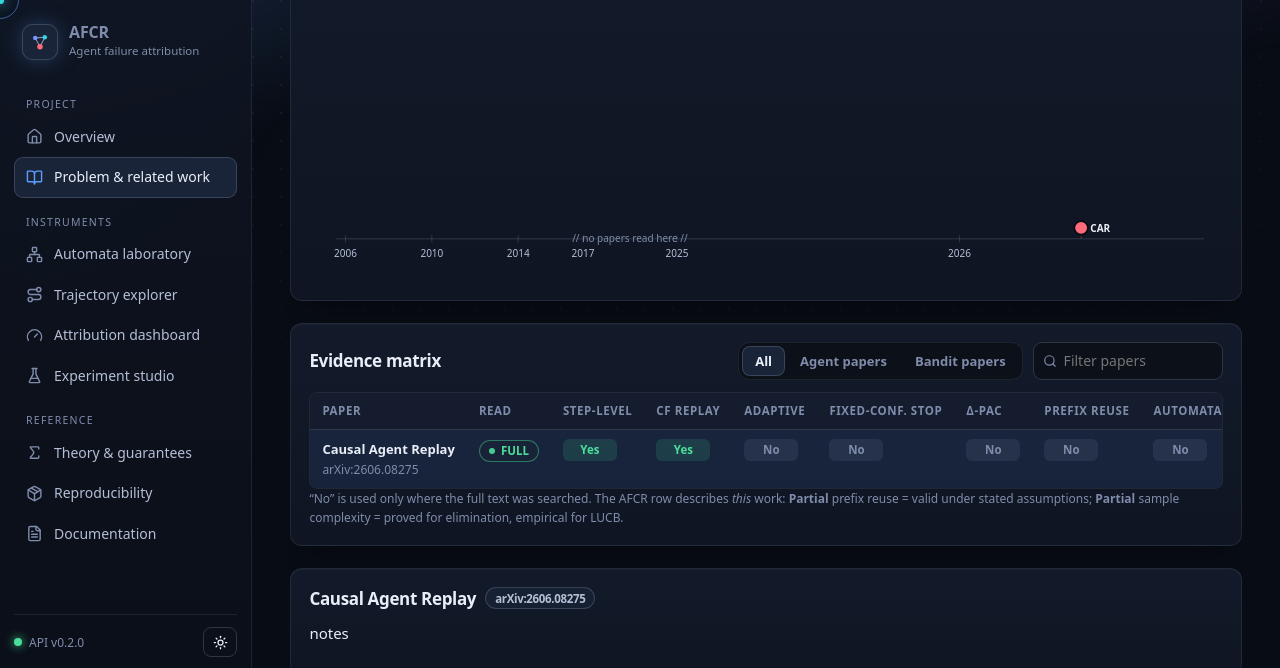
Scenario: docs, related work and the API client › the related-work filter finds a paper by acronym and explains an empty result
(page scrolled)
Type "car" into the search field labelled "Filter papers" at (1128, 361), box [1033,342,1223,380]
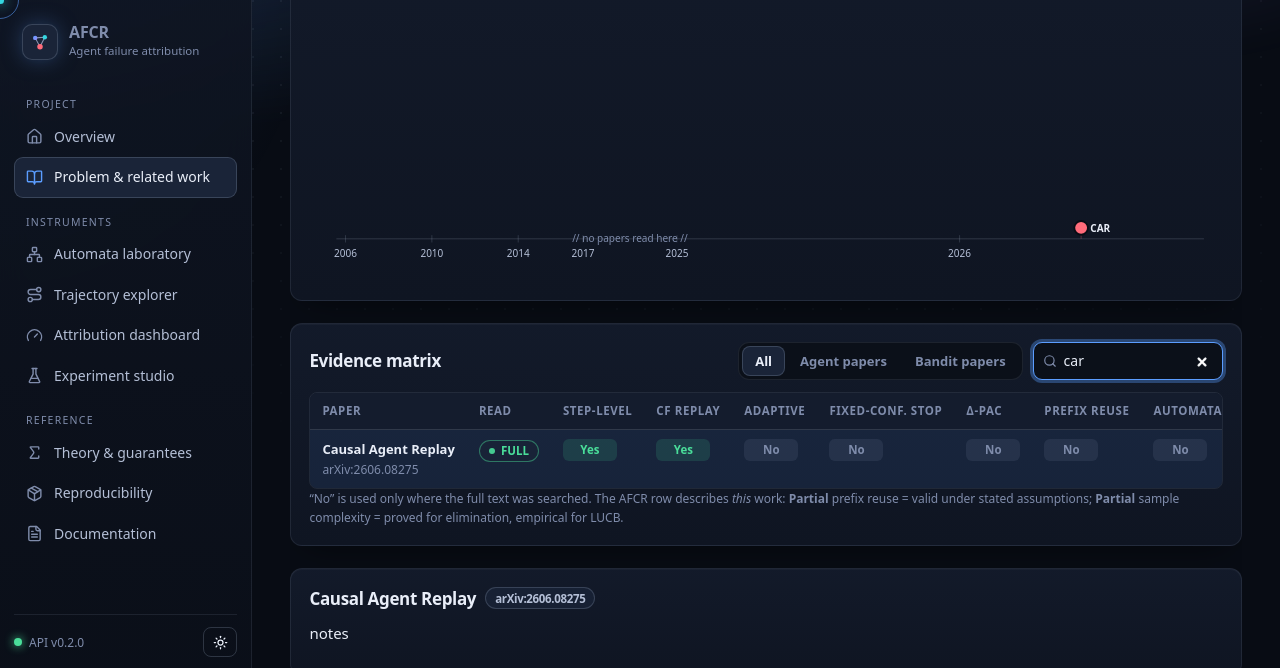
Expected: the text "Causal Agent Replay" is shown, [322,440,455,458]
Replace the text in the search field named "Filter papers" with "zzzz" at (1128, 361), box [1033,342,1223,380]
(page scrolled)
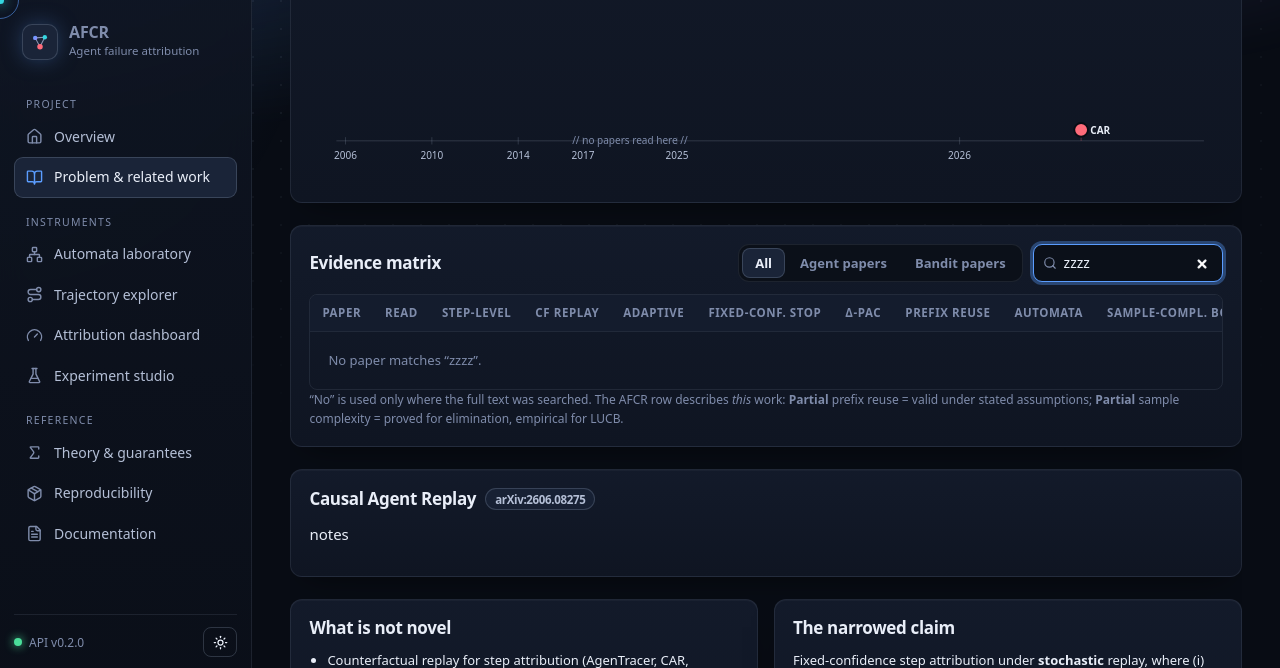
Expected: the text "No paper matches “zzzz”." is shown, [310,332,1223,389]
